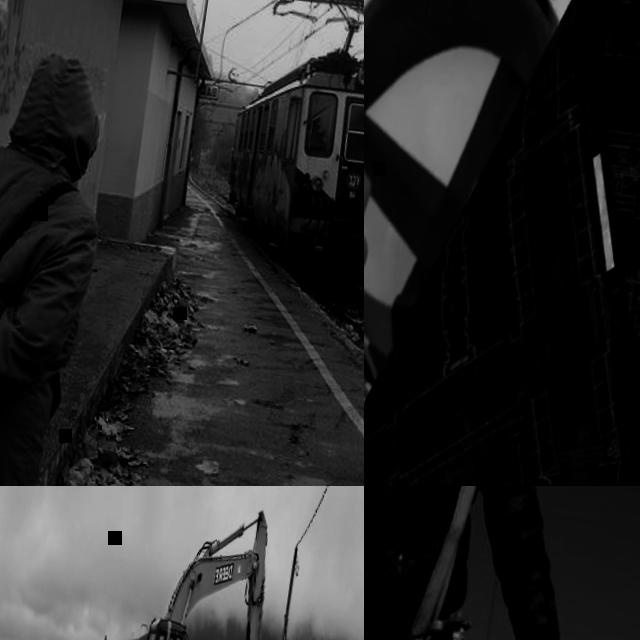Hardhat: (364, 0, 595, 440)
NO-Hardhat: (20, 47, 111, 135)
NO-Safety Vest: (0, 138, 94, 422), (364, 486, 496, 638)
Person: (0, 27, 119, 486), (364, 486, 640, 640), (364, 0, 439, 486)
machinery: (65, 486, 289, 640)
